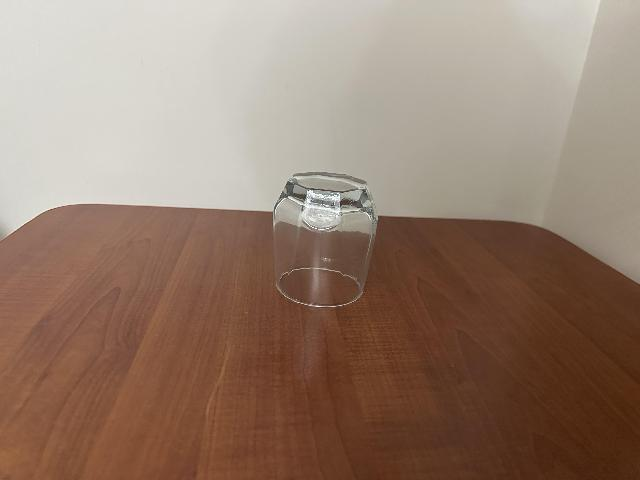Cam: (266, 171, 381, 308)
